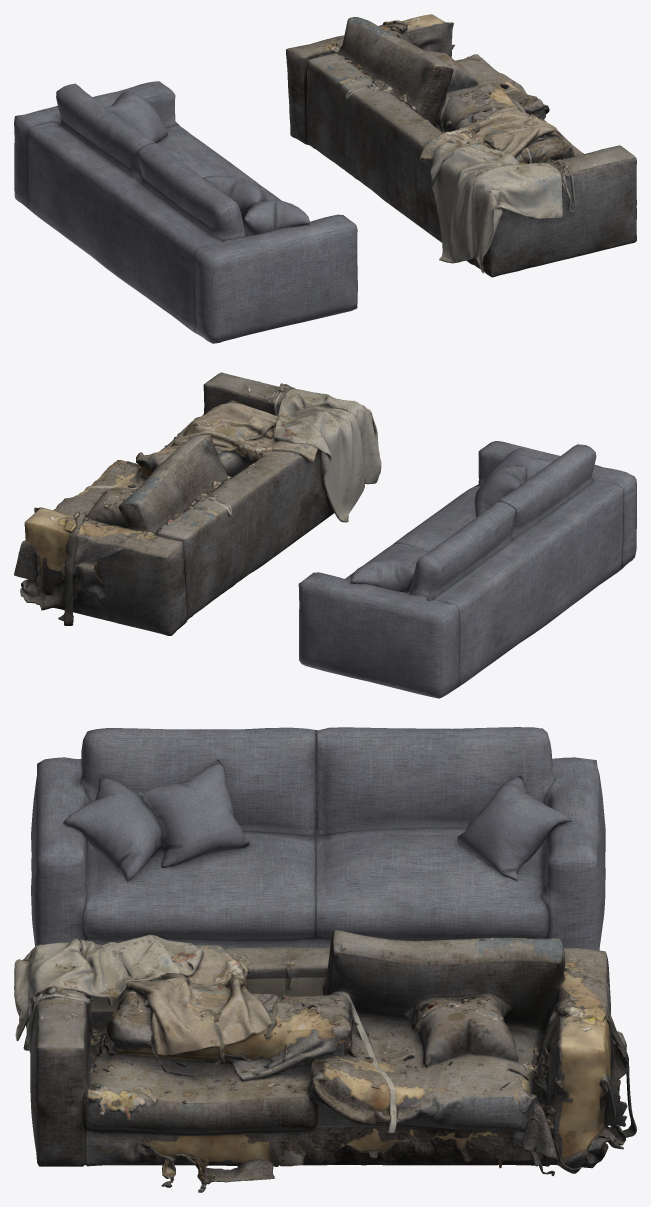
The model's file is trashy_backyard_sofa.glb.
The picture shows the model from 3 angles, top to bottom: view 1: azimuth 30°, elevation 25°; view 2: azimuth 150°, elevation 25°; view 3: azimuth 270°, elevation 25°; orthographic projection. The views are drawn at different scales.
Parts seen in each view (by area): view 1: tyFlow003, tyFlow001; view 2: tyFlow003, tyFlow001; view 3: tyFlow003, tyFlow001.
Boxes of the visible parts, left/top/right/bottom form: tyFlow003: left=286, top=14, right=636, bottom=277; tyFlow001: left=14, top=81, right=357, bottom=343; tyFlow003: left=14, top=372, right=381, bottom=635; tyFlow001: left=298, top=441, right=636, bottom=698; tyFlow003: left=14, top=930, right=636, bottom=1192; tyFlow001: left=31, top=727, right=605, bottom=950.
Size of the model in its own units: 3.3 by 0.8745 by 2.76.
Materials: 2 (2 with a texture image).
